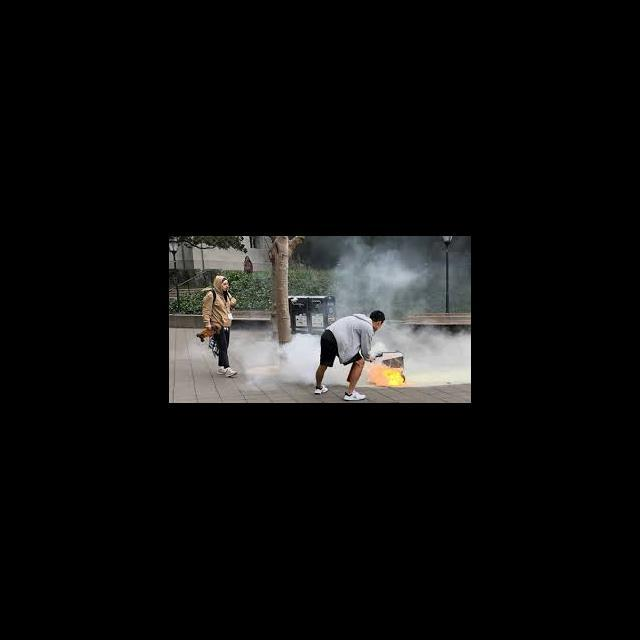Fire: (368, 362, 408, 389)
Smoke: (328, 241, 423, 307), (246, 331, 314, 388), (408, 328, 470, 388)
